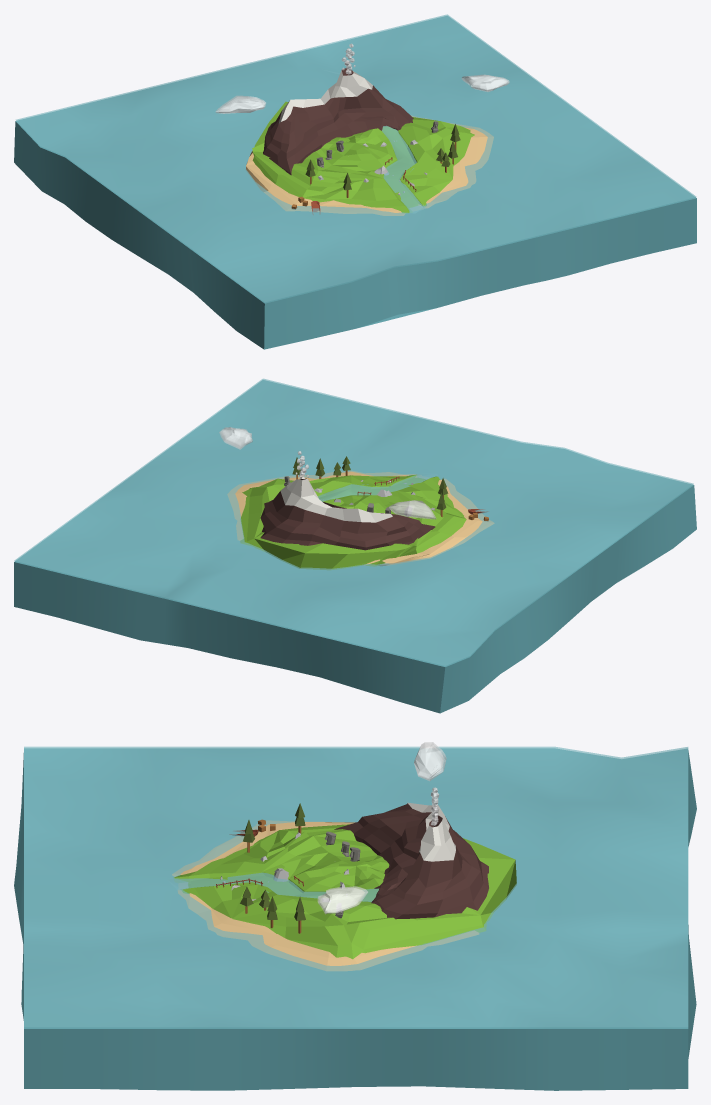
The picture shows the model from 3 angles, top to bottom: view 1: azimuth 30°, elevation 25°; view 2: azimuth 150°, elevation 25°; view 3: azimuth 270°, elevation 25°; orthographic projection. The views are drawn at different scales.
Parts seen in each view (by area): view 1: Mar_e_moto1, Mar_e_moto, pCylinder1, Montanha, pCylinder2, Agua, pCube13, pCube14, pCube42; view 2: Mar_e_moto1, Mar_e_moto, pCylinder1, Montanha, pCylinder2, Agua, pCube13, pCube14, pCube42; view 3: Mar_e_moto1, Mar_e_moto, pCylinder1, Montanha, pCylinder2, Agua, pCube14, pCube13, pCube43, pCube42.
Part boxes in pixels (x1,y1,x2,y2): Mar_e_moto1: (14, 16, 696, 349); Mar_e_moto: (16, 14, 696, 302); pCylinder1: (252, 101, 474, 212); Montanha: (263, 68, 413, 175); pCylinder2: (246, 115, 493, 215); Agua: (382, 126, 424, 213); pCube13: (215, 95, 265, 113); pCube14: (461, 74, 509, 91); pCube42: (218, 97, 264, 112); Mar_e_moto1: (14, 380, 696, 713); Mar_e_moto: (14, 378, 693, 665); pCylinder1: (240, 474, 466, 569); Montanha: (260, 478, 435, 550); pCylinder2: (227, 471, 494, 565); Agua: (318, 473, 437, 501); pCube13: (389, 500, 436, 519); pCube14: (219, 427, 252, 449); pCube42: (391, 501, 434, 517); Mar_e_moto1: (14, 748, 696, 1090); Mar_e_moto: (24, 746, 688, 1027); pCylinder1: (173, 824, 516, 959); Montanha: (334, 802, 488, 919); pCylinder2: (172, 820, 478, 970); Agua: (167, 872, 378, 901); pCube14: (317, 886, 367, 914); pCube13: (414, 742, 446, 780); pCube43: (319, 888, 364, 912); pCube42: (414, 744, 443, 779).
Bounding box in the file's own units: 95.75 × 29.25 × 96.73.
